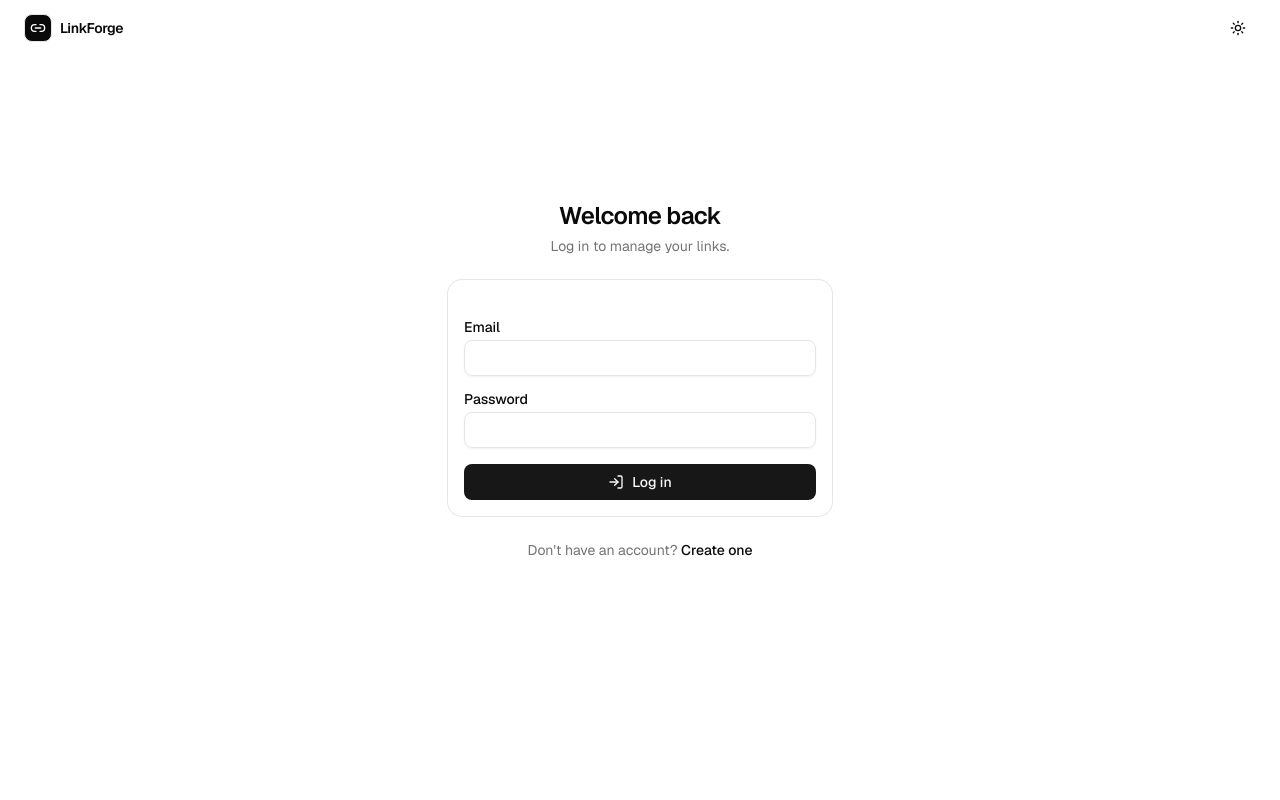
Test: LoginPage › shows one generic message for INVALID_CREDENTIALS, attached to neither field
The image size is (1280, 800).
Type "a@b.com" into the field labelled "Email" at (640, 358), box [464,340,816,376]
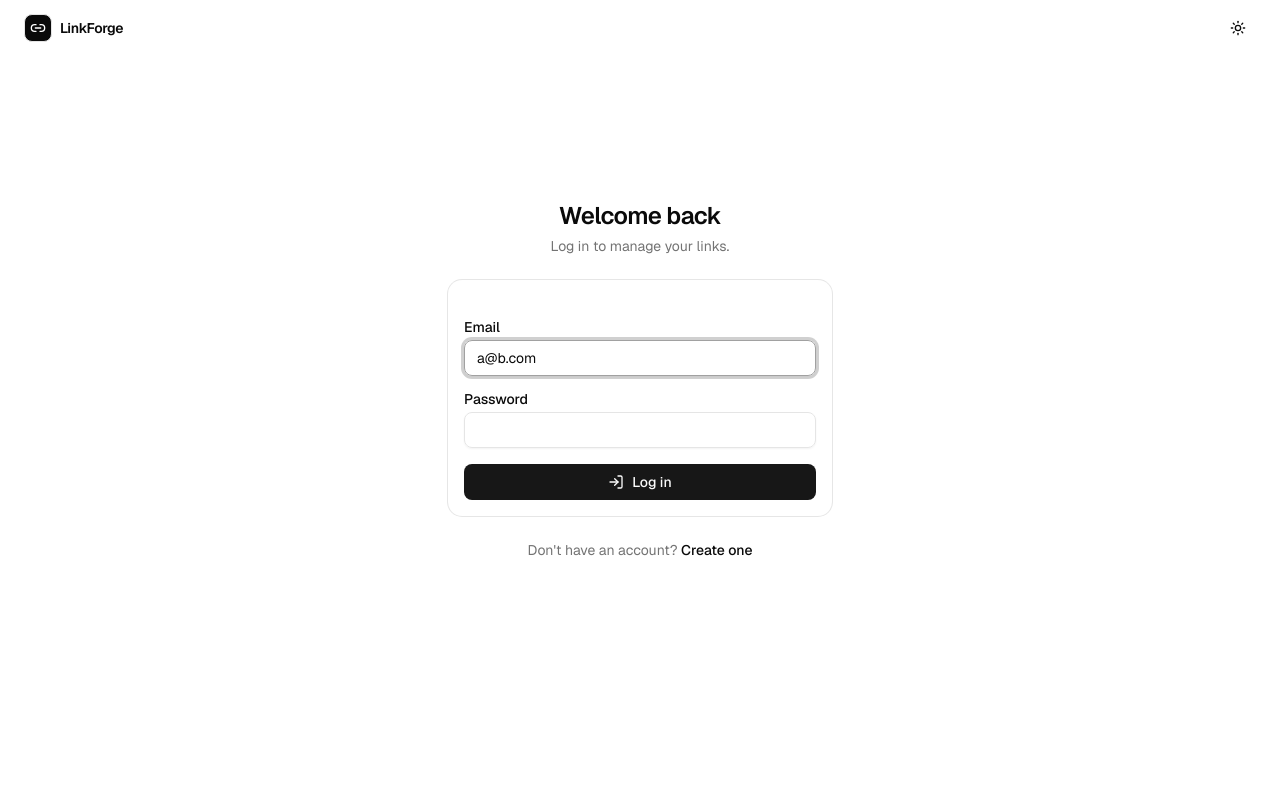
Type "wrong-password" into the password field labelled "Password" at (640, 430), box [464,412,816,448]
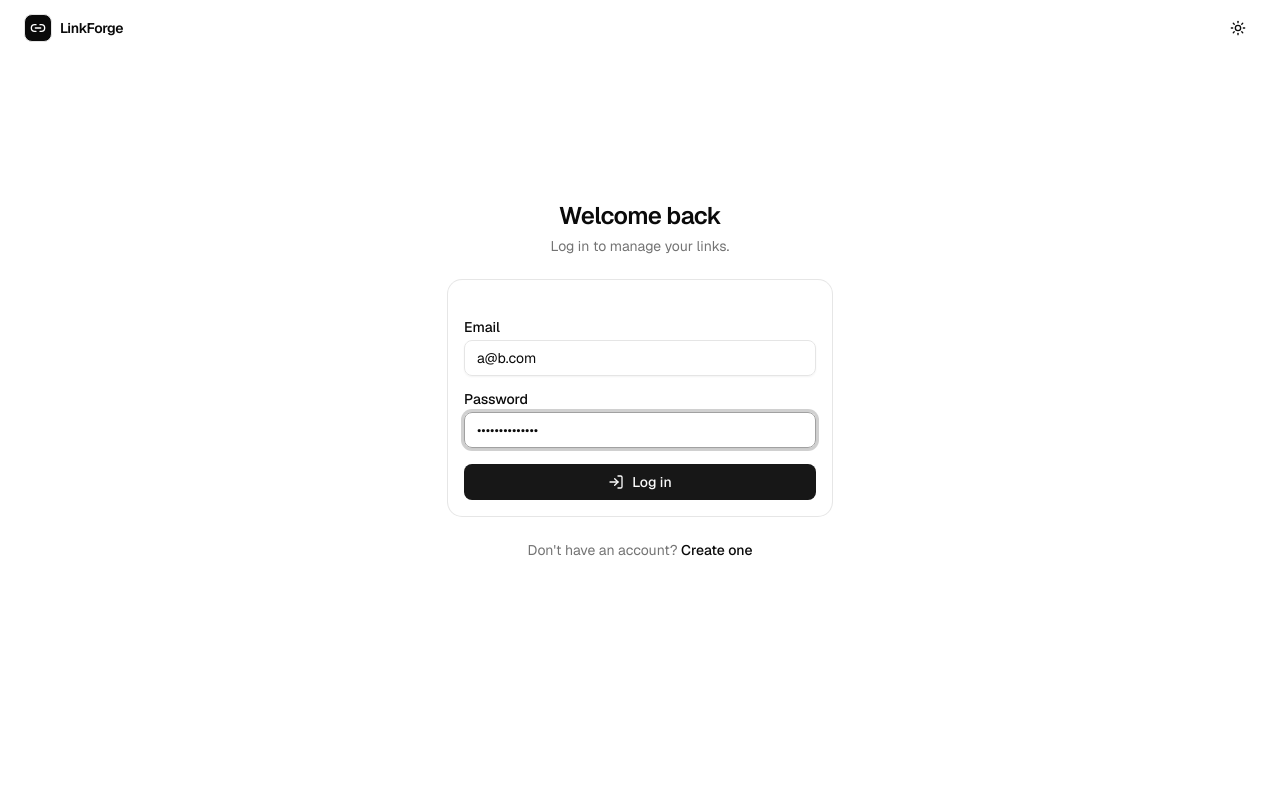
Click the button "Log in" at (640, 482), box [464,464,816,500]
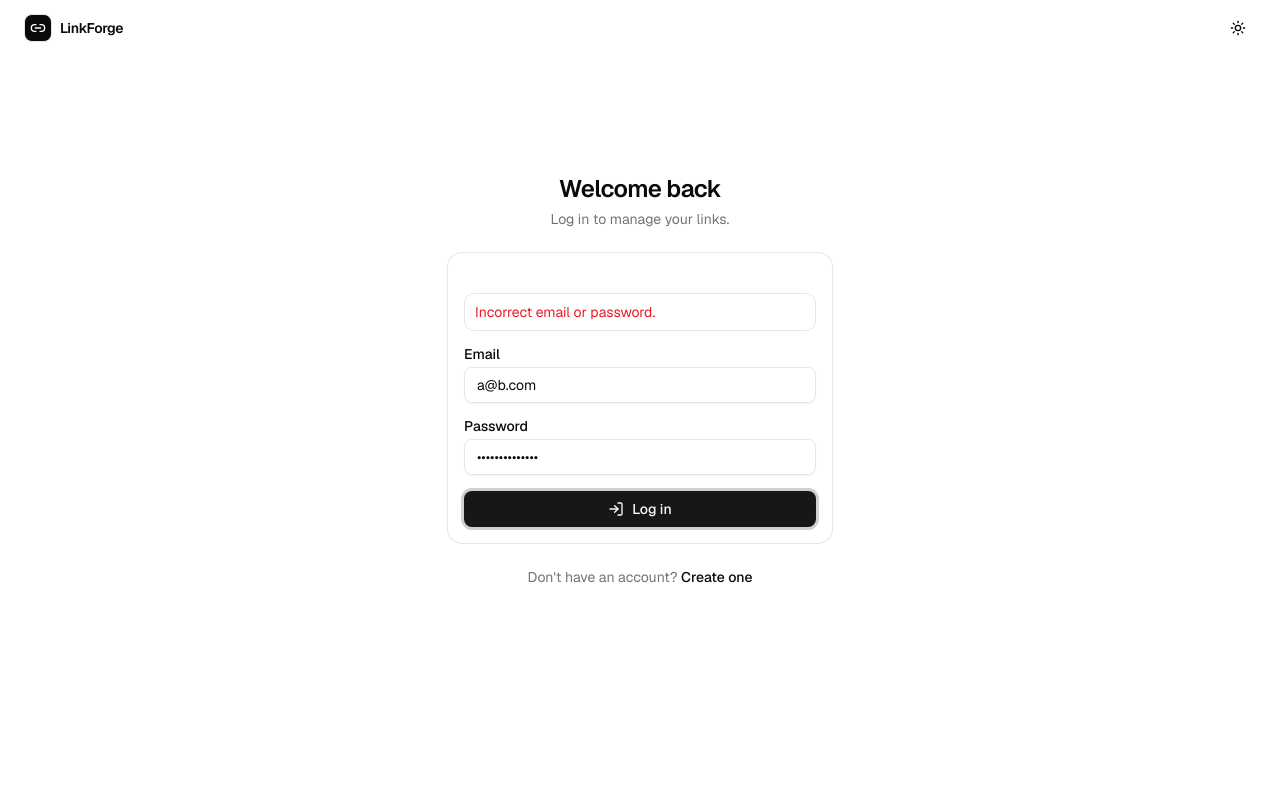
Expected: the text "Incorrect email or password." is shown, [475,303,655,321]
